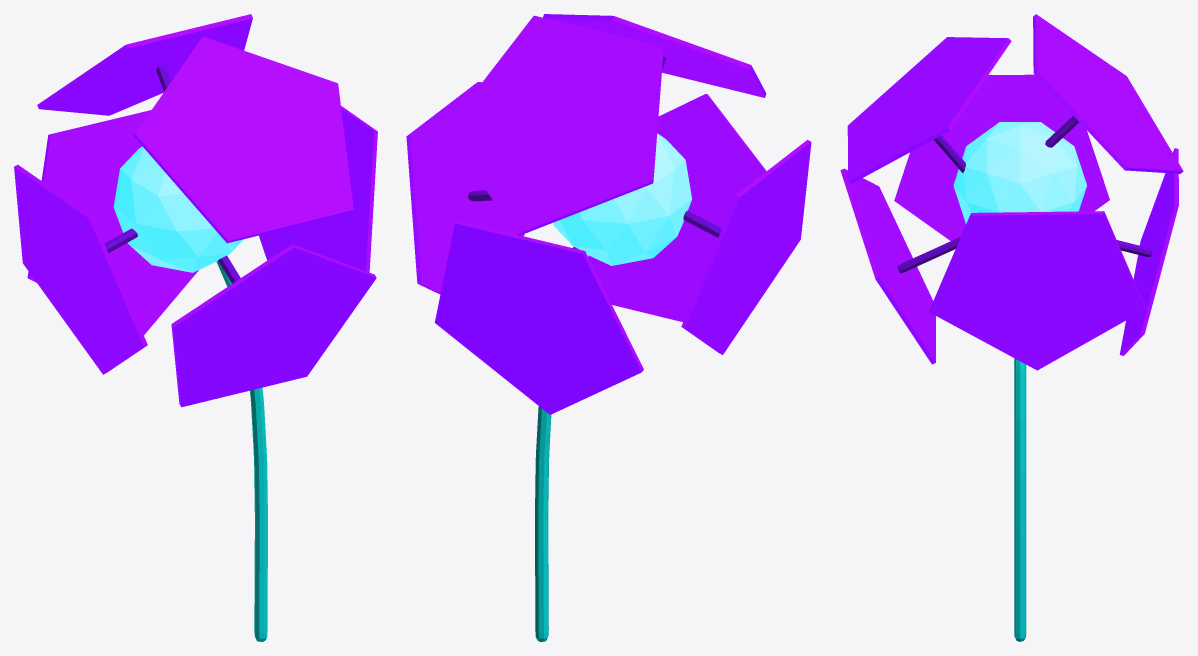
The model's file is Dandelion.fbx.
3 renders of one model, left to right at view 1: azimuth 30°, elevation 25°; view 2: azimuth 150°, elevation 25°; view 3: azimuth 270°, elevation 25°, orthographic. The views are drawn at different scales.
Parts seen in each view (by area): view 1: Circle.005, Icosphere, Plane, Plane.001; view 2: Circle.005, Icosphere, Plane, Plane.001; view 3: Circle.005, Icosphere, Plane, Plane.001.
Part boxes in pixels (x1,y1,x2,y2): Circle.005: [14, 14, 377, 407]; Icosphere: [113, 146, 243, 272]; Plane: [216, 256, 267, 641]; Plane.001: [104, 65, 240, 283]; Circle.005: [406, 14, 811, 414]; Icosphere: [553, 133, 691, 265]; Plane: [535, 406, 551, 641]; Plane.001: [468, 56, 721, 249]; Circle.005: [840, 14, 1183, 370]; Icosphere: [953, 122, 1086, 224]; Plane: [1014, 358, 1026, 641]; Plane.001: [897, 116, 1152, 273].
Size of the model in its own units: 173 by 332 by 180.
